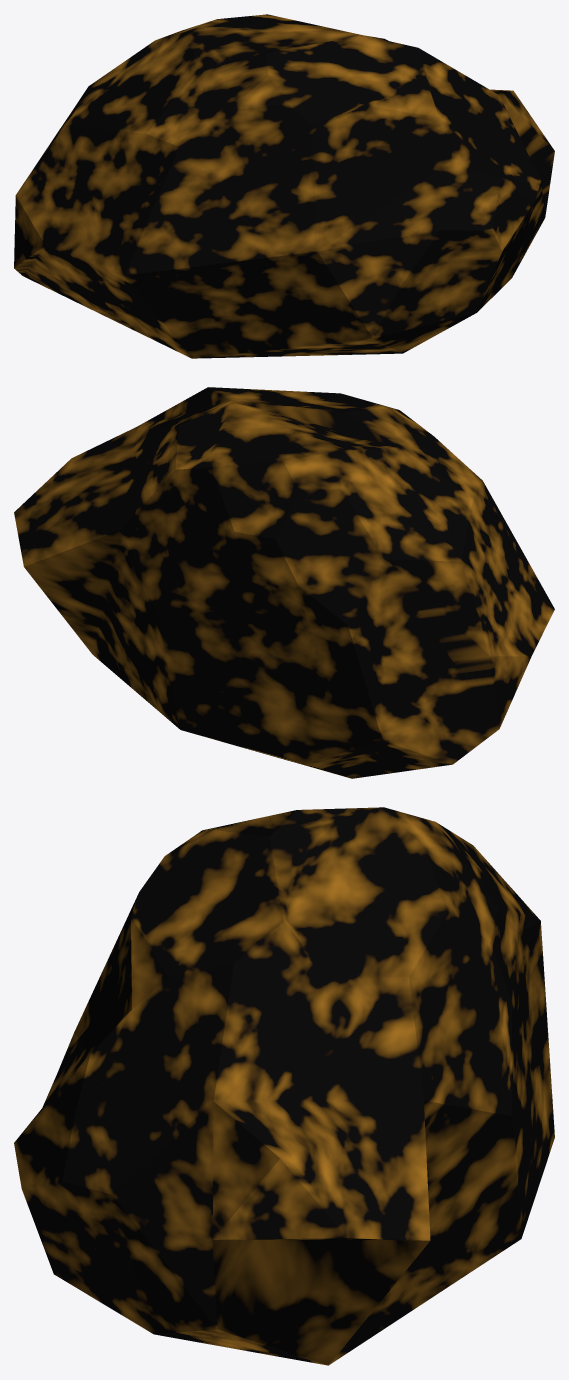
The model's file is charcoal.fbx.
3 views of the same model, one above another, from view 1: azimuth 30°, elevation 25°; view 2: azimuth 150°, elevation 25°; view 3: azimuth 270°, elevation 25° (orthographic). The views are drawn at different scales.
Parts seen in each view (by area): view 1: coal.001; view 2: coal.001; view 3: coal.001.
Part boxes in pixels (x1,y1,x2,y2): coal.001: [14, 14, 554, 358]; coal.001: [14, 387, 554, 778]; coal.001: [14, 807, 554, 1365].
Bounding box in the file's own units: 22.84 × 13.39 × 15.5.
